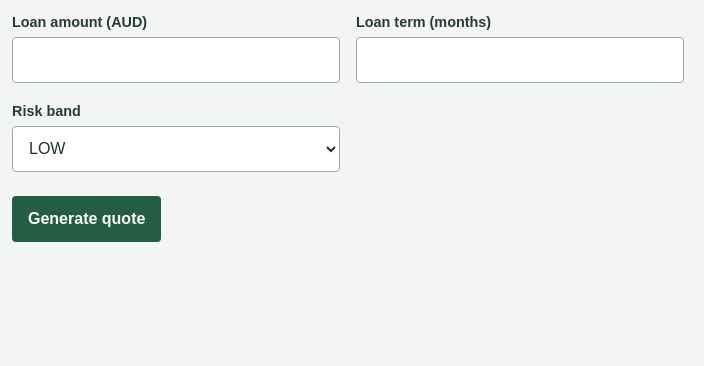
Test: LoanQuoteForm › shows API errors and permits retry
The image size is (704, 366).
Type "500000" into the number field labelled "Loan amount (AUD)". click: (176, 60)
box: left=12, top=37, right=340, bottom=83
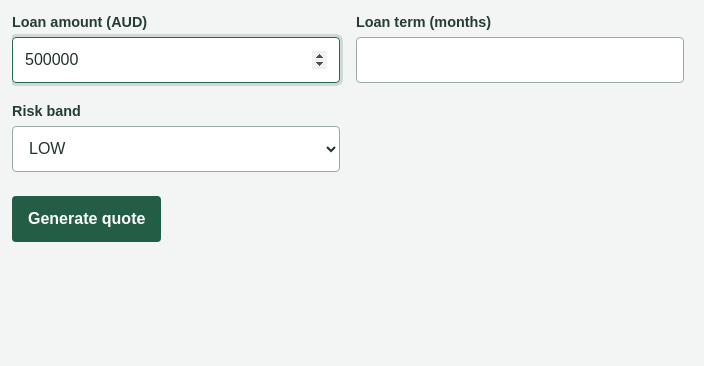
Type "360" into the number field labelled "Loan term (months)". click: (520, 60)
box: left=356, top=37, right=684, bottom=83
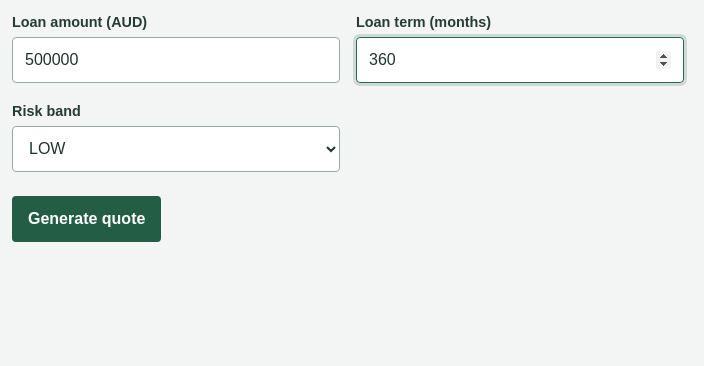
Click the button "Generate quote". click: (87, 219)
box: left=12, top=196, right=161, bottom=242
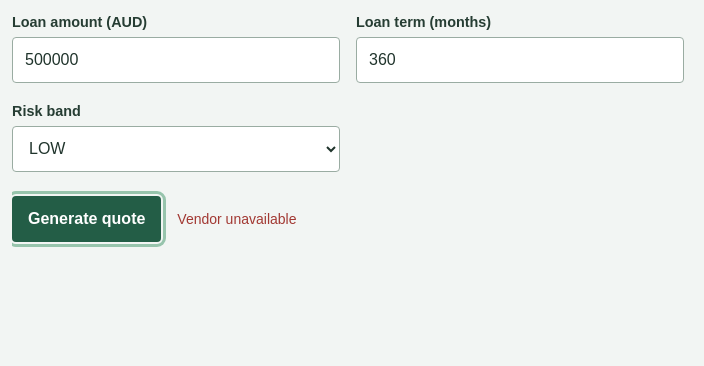
Now the message reads "Vendor unavailable", box left=177, top=211, right=296, bottom=227
Click the button "Generate quote". click: (87, 219)
box: left=12, top=196, right=161, bottom=242
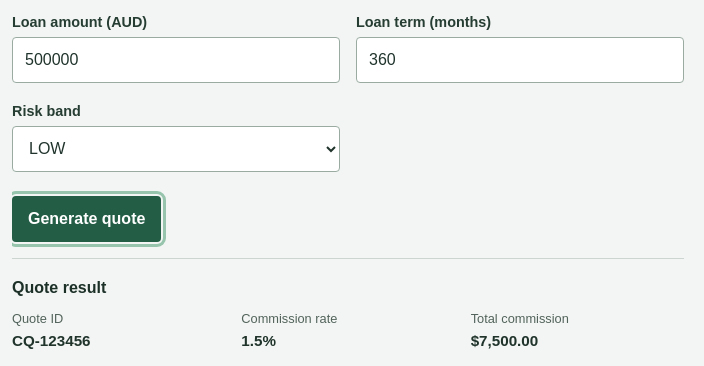
Now the element "Quote result" shows "CQ-123456", box left=12, top=332, right=90, bottom=349
